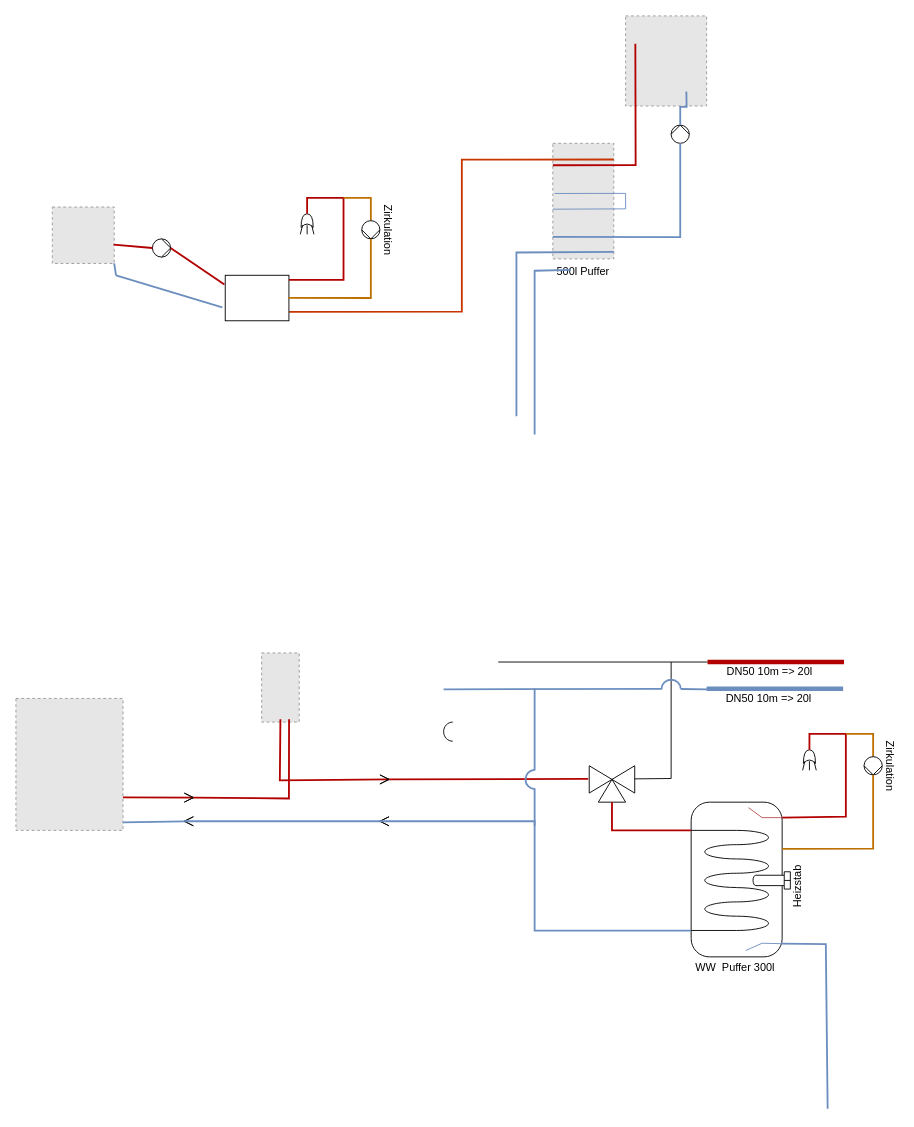
Some shapes in this 914 by 1127 pixel diagram are drawn without their labels. Grey dashed boxes stand in for pictures. The centre of each missing label's shape, as x and y in pixels:
"200l Puffer" belongs at (x=256, y=297).
"ST- Pumpe" belongs at (x=679, y=133).
